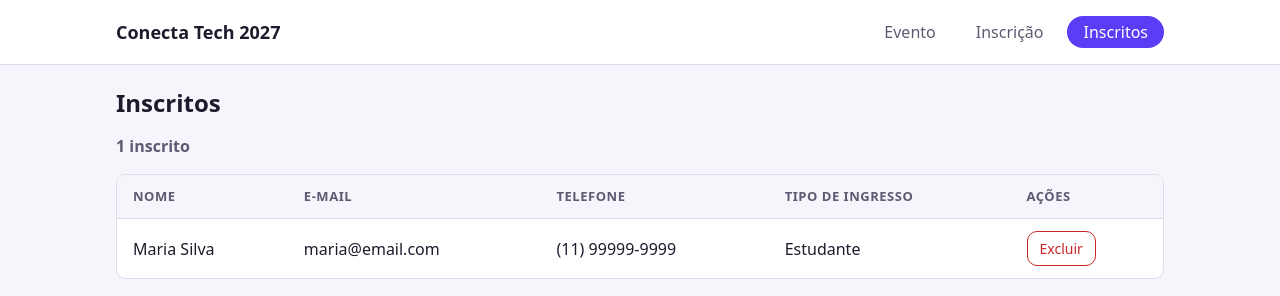
tela de inscritos › exclusão › REQ-FE-26: ao excluir a última inscrição, mostra o estado de lista vazia
The width and height of the screenshot is (1280, 296).
Click the button "Excluir".
click(1061, 249)  # box left=1026, top=231, right=1096, bottom=266
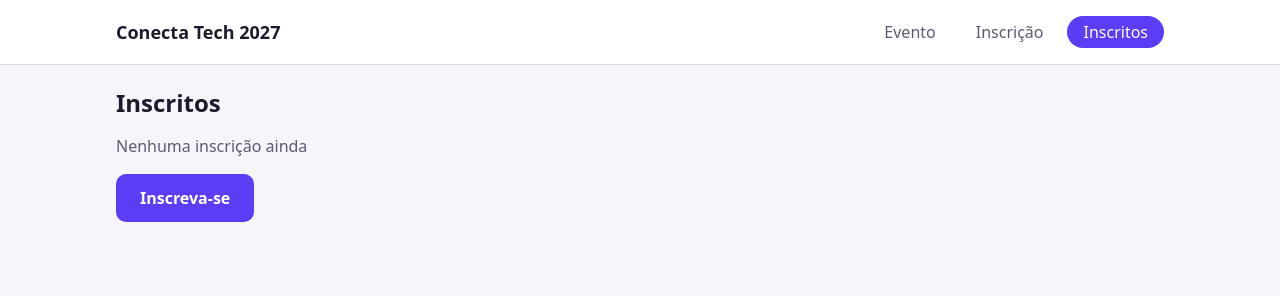
Expected: the text "Nenhuma inscrição ainda" is shown, left=116, top=134, right=307, bottom=158
Expected: the table is gone
